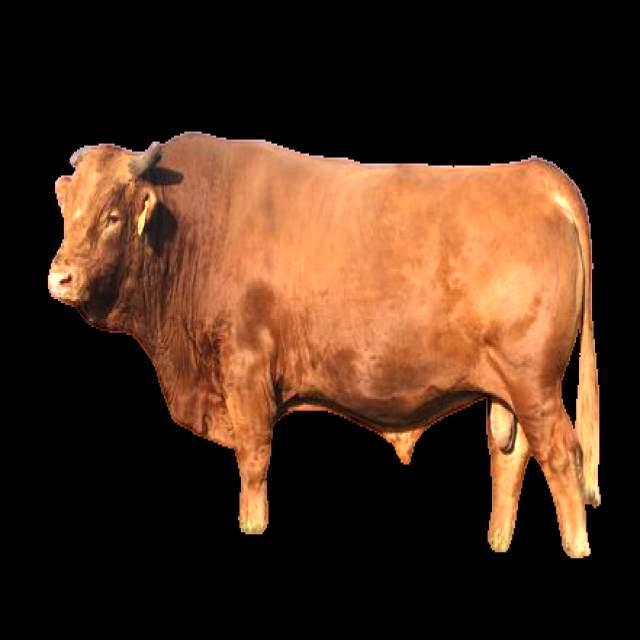COW: (50, 132, 600, 558)
